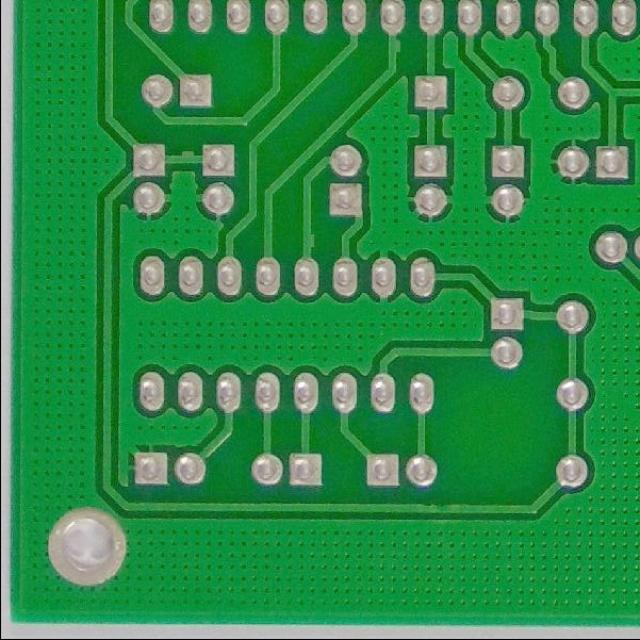Spur: (384, 34, 404, 59), (176, 147, 199, 168), (300, 229, 318, 251)
